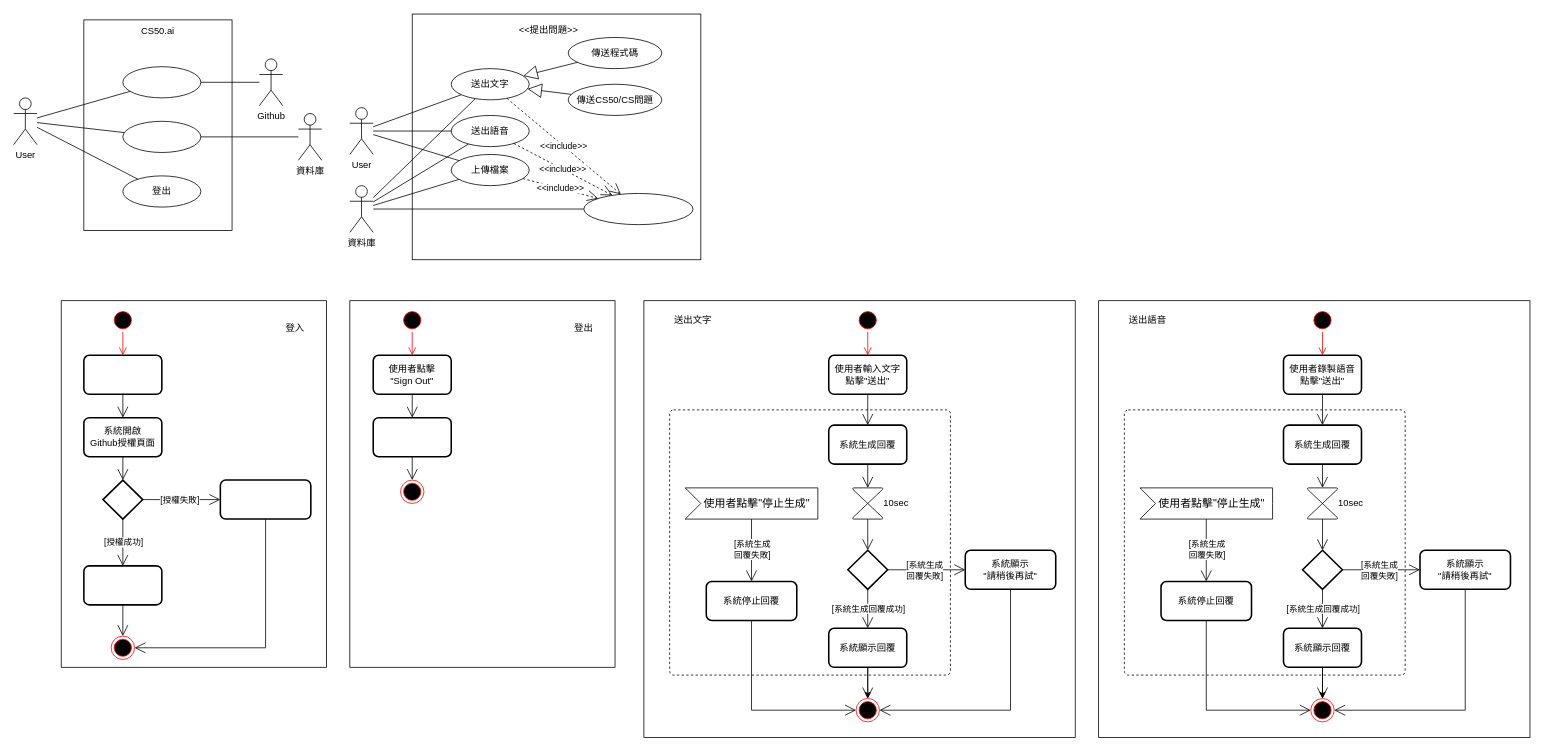
Image size: 1544x751. Some labels were removed from this diagram. Here are the shapes that lost their labels. From the top down, the box of each, then its label:
(122, 66, 201, 98): 開始
(122, 121, 201, 152): 提出問題
(583, 193, 693, 225): 生成回覆
(83, 354, 162, 395): 使用者點擊 "Log In"
(372, 417, 452, 457): 系統登出，返回index page
(219, 479, 311, 519): 系統取消登入
(83, 565, 162, 605): 系統開啟CS50.ai/chat 頁面
